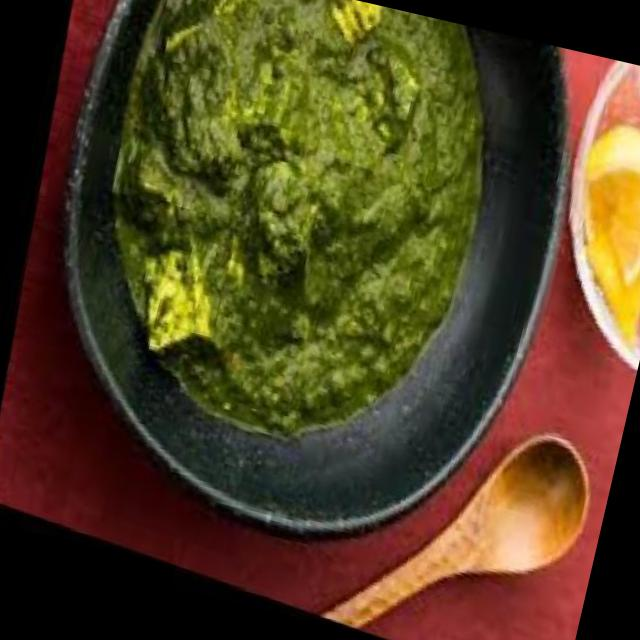palak_paneer: (46, 0, 525, 493)
